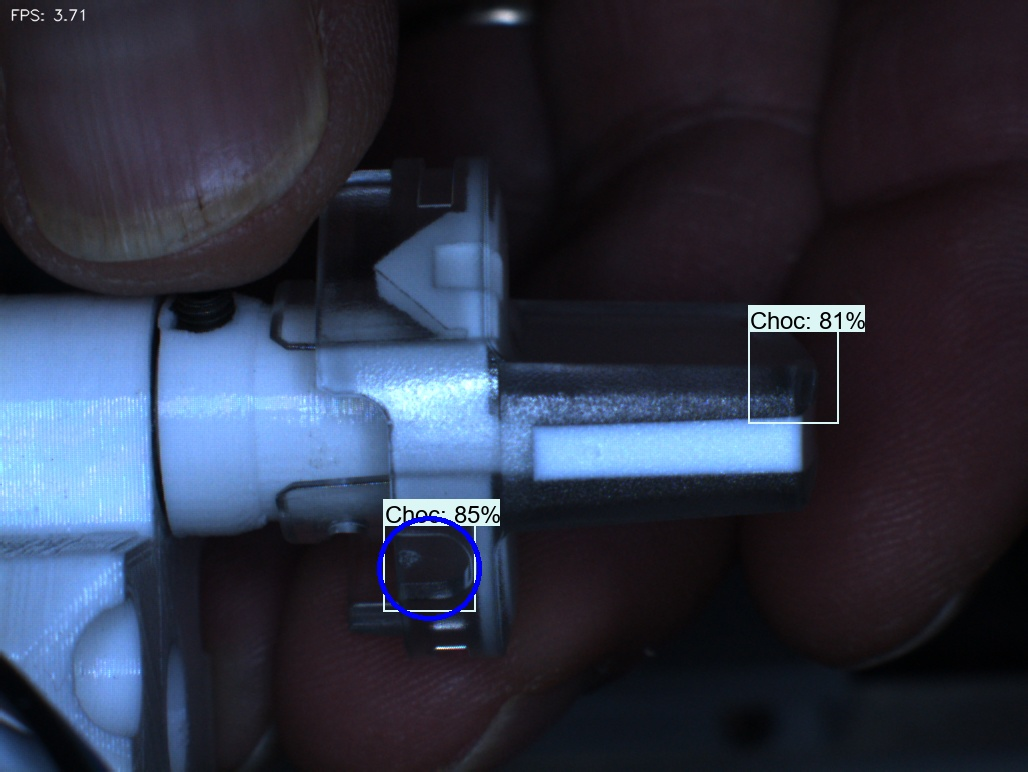DentOk: (344, 229, 411, 325)
